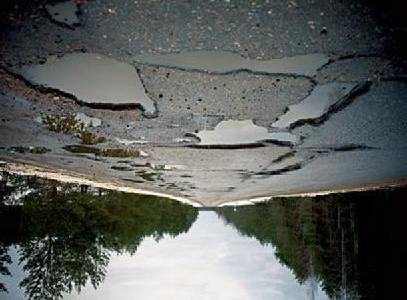pothole: (0, 48, 160, 122), (135, 46, 333, 82), (267, 80, 374, 131), (183, 115, 302, 148), (34, 111, 107, 146), (255, 147, 314, 178), (61, 146, 151, 162), (41, 0, 82, 32), (329, 141, 370, 154), (6, 145, 52, 156)
